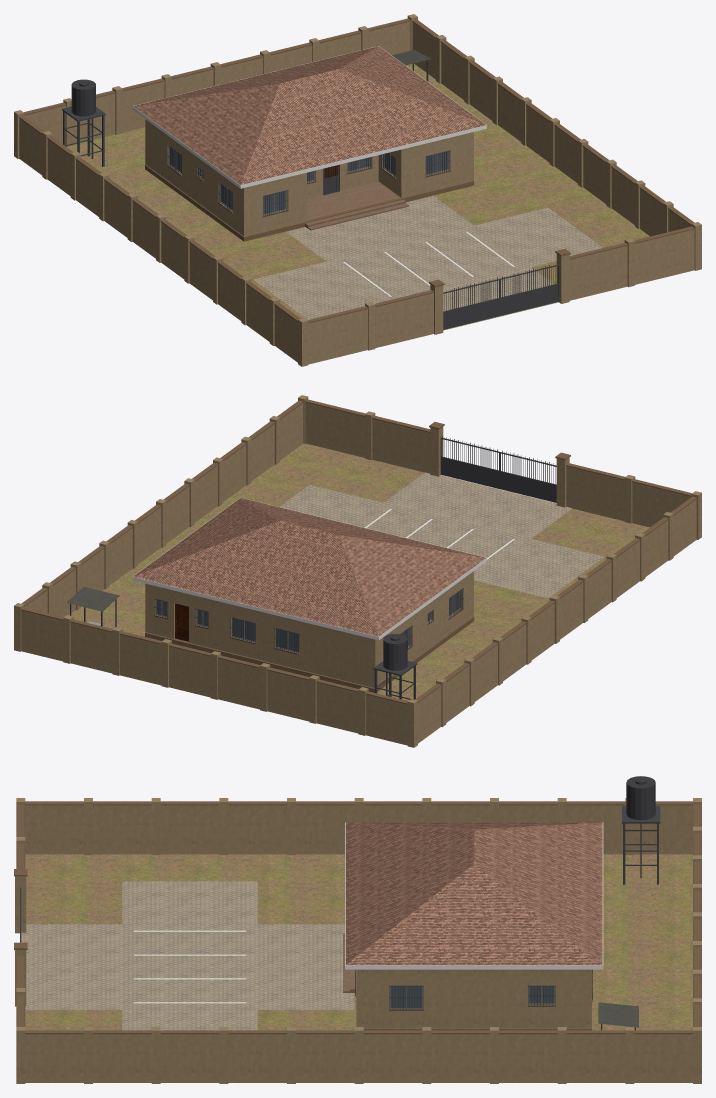
Rendered from bungalow_exterior.glb.
The picture shows the model from 3 angles, top to bottom: view 1: azimuth 30°, elevation 25°; view 2: azimuth 150°, elevation 25°; view 3: azimuth 270°, elevation 25°; orthographic projection. The views are drawn at different scales.
Visible parts, largest first — view 1: bungalow_exterior_static, gate_right_mesh, gate_left_mesh; view 2: bungalow_exterior_static, gate_right_mesh, gate_left_mesh; view 3: bungalow_exterior_static.
Boxes of the visible parts, x1,y1,x2,y2 form: bungalow_exterior_static: [14, 14, 701, 366]; gate_right_mesh: [500, 263, 559, 315]; gate_left_mesh: [443, 277, 500, 329]; bungalow_exterior_static: [14, 395, 701, 747]; gate_right_mesh: [440, 436, 499, 488]; gate_left_mesh: [499, 450, 556, 502]; bungalow_exterior_static: [14, 776, 701, 1083].
Size of the model in its own units: 24.4 by 5.9 by 30.5.
24 materials, 10 textured.
